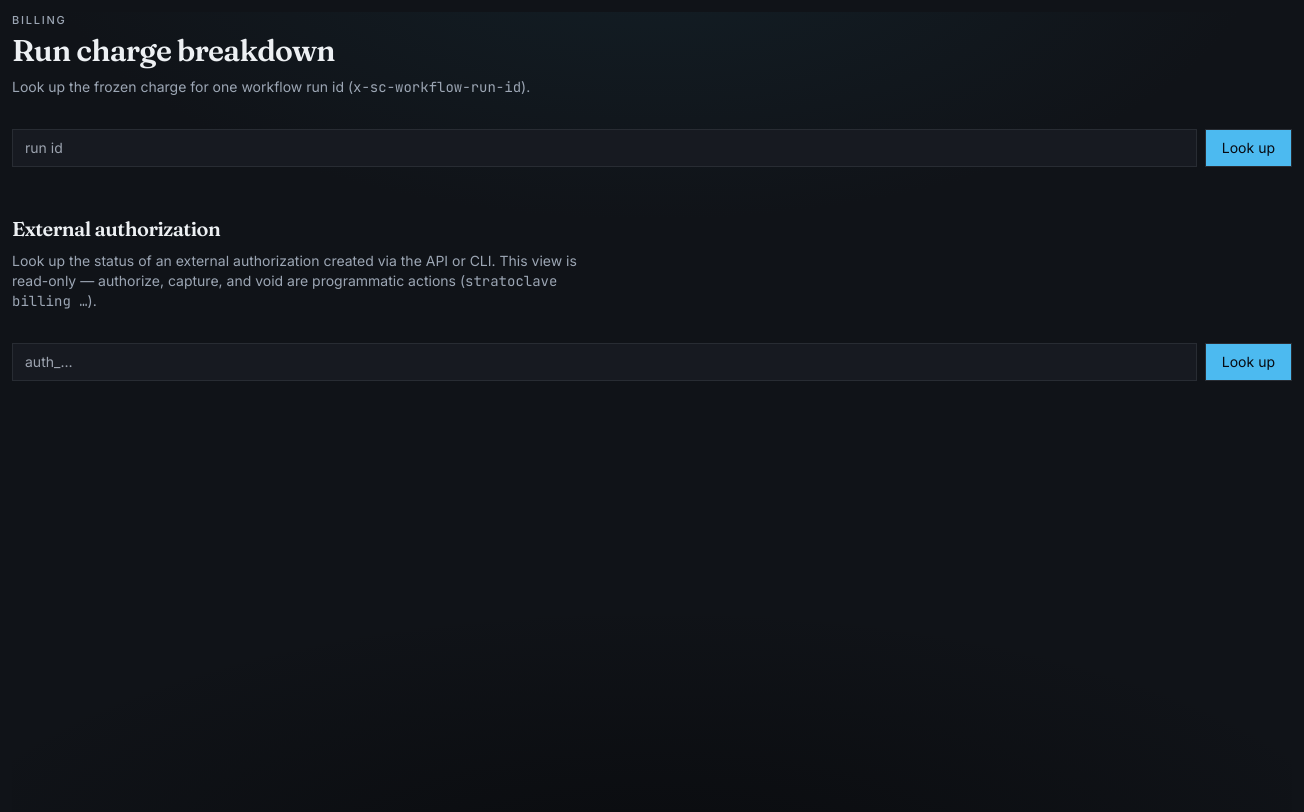
Test: MeBilling — run lookup error handling › renders the total once the run resolves successfully
The width and height of the screenshot is (1304, 812).
Type "run-1" into the field named "workflow run id" at point(604, 148), box [12,128,1197,166]
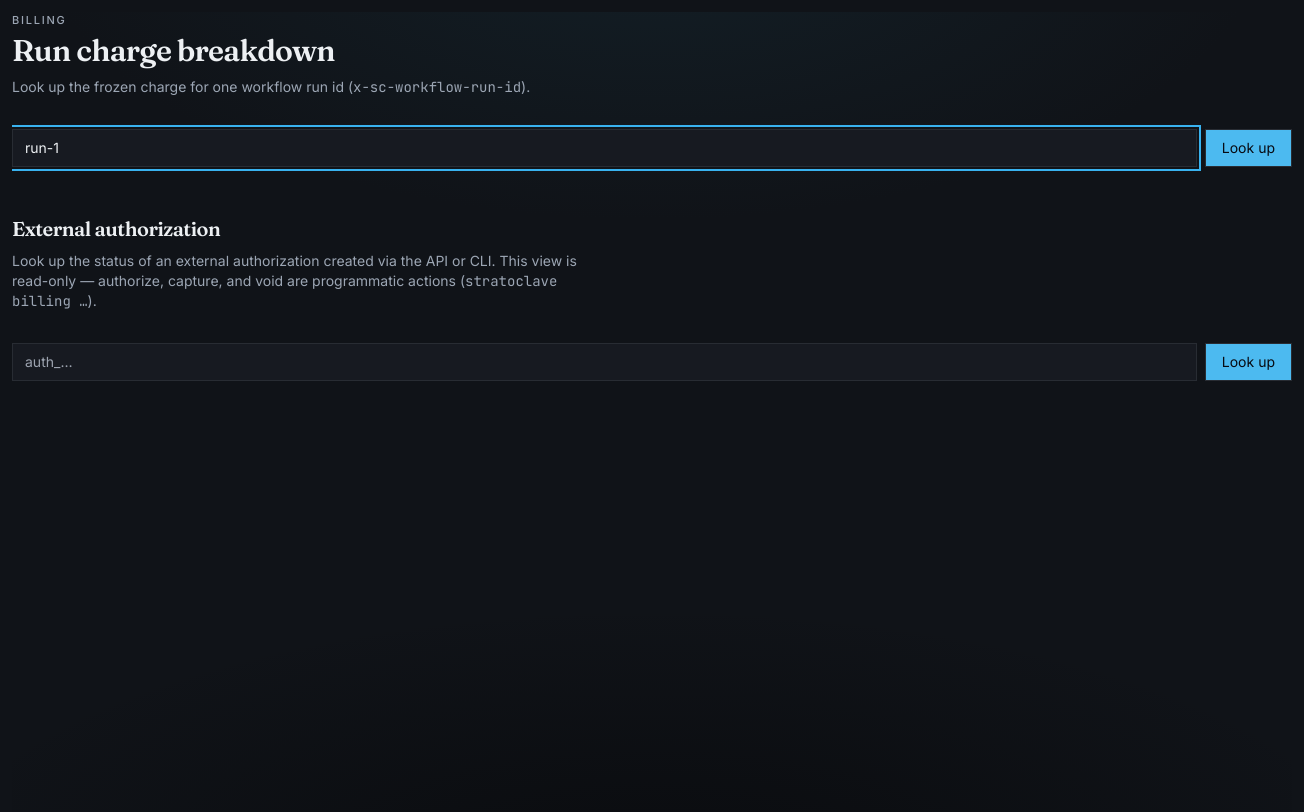
Click the 1st button "Look up" at point(1248, 148), box [1205,128,1292,166]
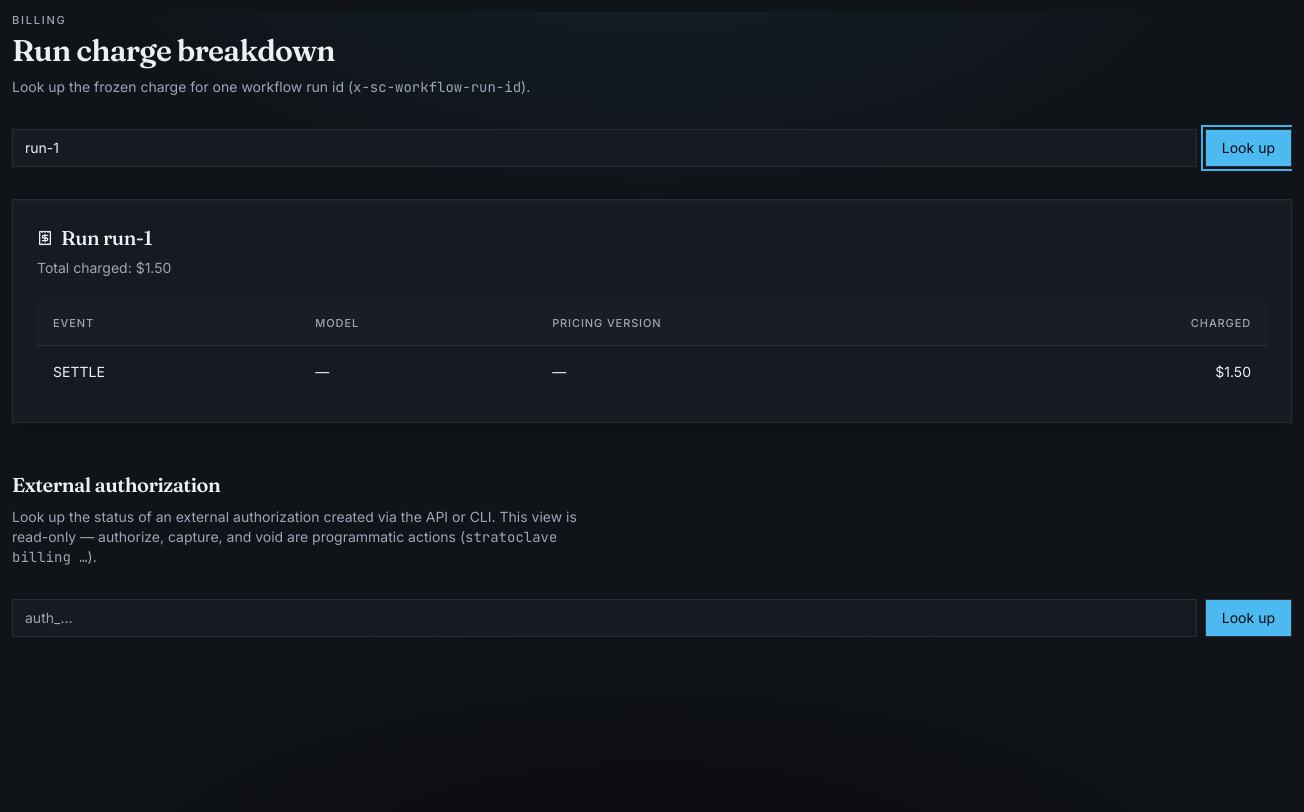
Check: the text with test id "total-charged" reads "$1.50", box [136,258,171,276]
